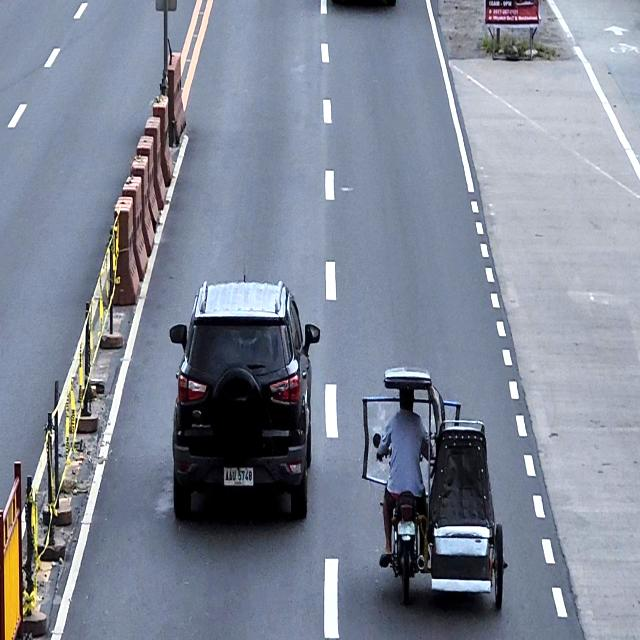Car: (170, 276, 320, 521)
License-Plate: (222, 464, 255, 487), (397, 518, 416, 535)
Tricycle: (361, 367, 508, 610)
